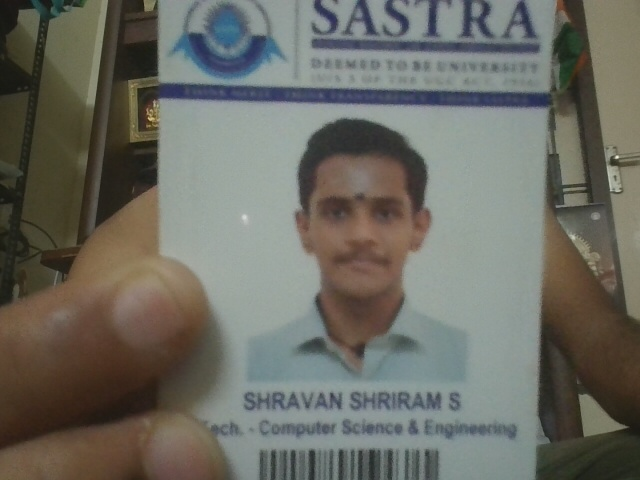fake: (288, 155, 432, 299), (289, 208, 420, 339)
